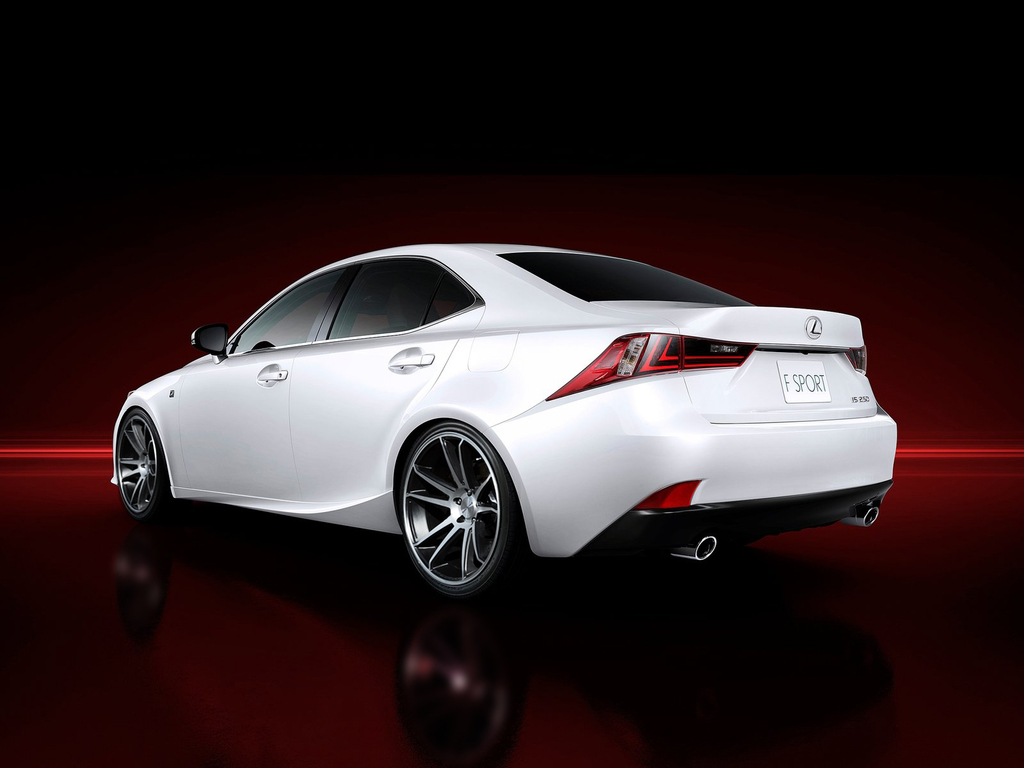Car: (108, 252, 890, 595)
